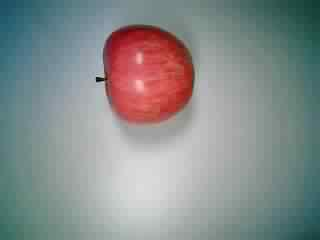apple: (92, 21, 196, 125)
